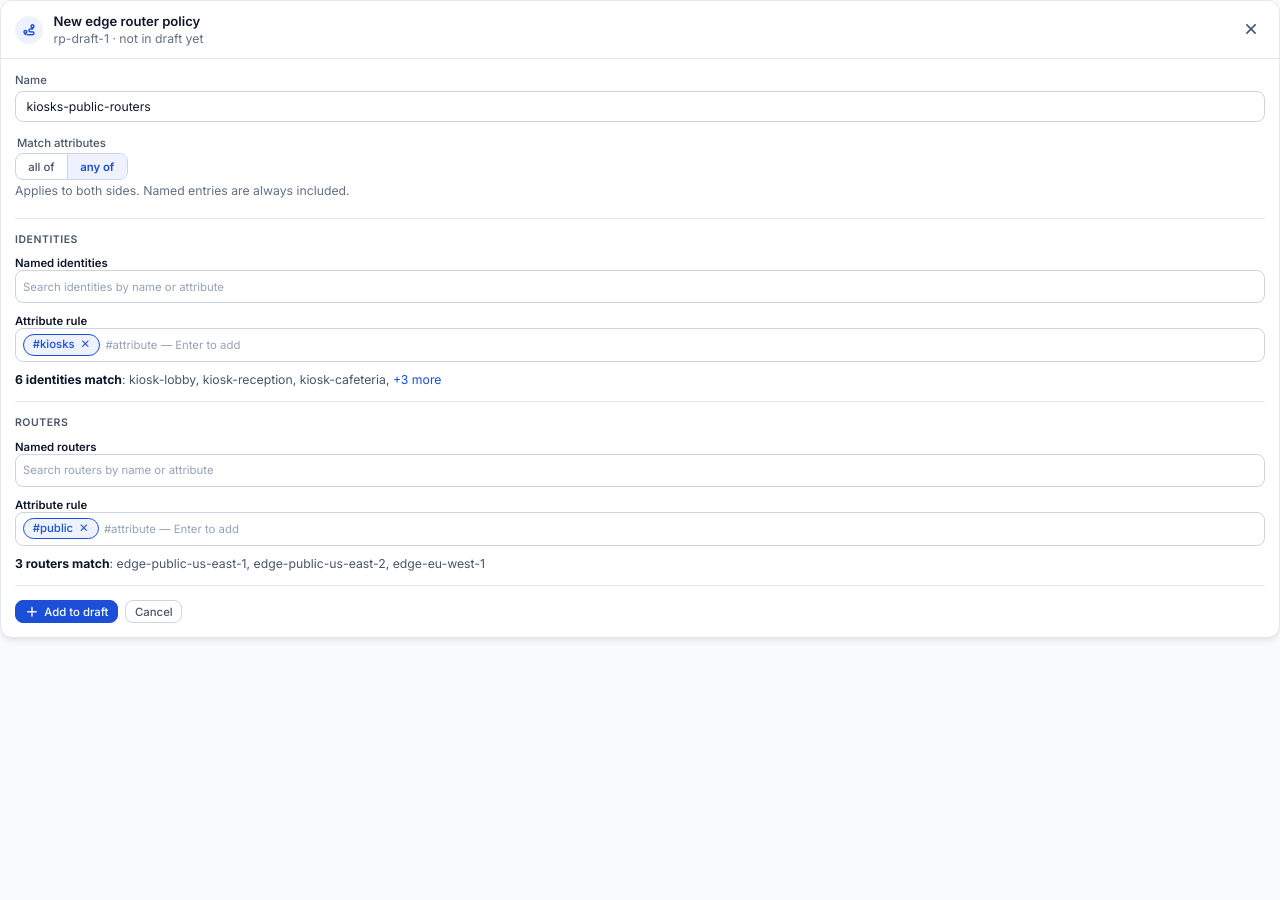
RouterPolicyEditorComponent › a new suggestion: its live counts, nothing in the draft until Add to draft
The image size is (1280, 900).
Expected: the heading "New edge router policy" is shown, left=54, top=13, right=200, bottom=29
Expected: the field with id "rpe-name" holds "kiosks-public-routers", left=15, top=91, right=1265, bottom=122
Step 1. Click the button "Add to draft" → (67, 612), box left=15, top=600, right=118, bottom=623
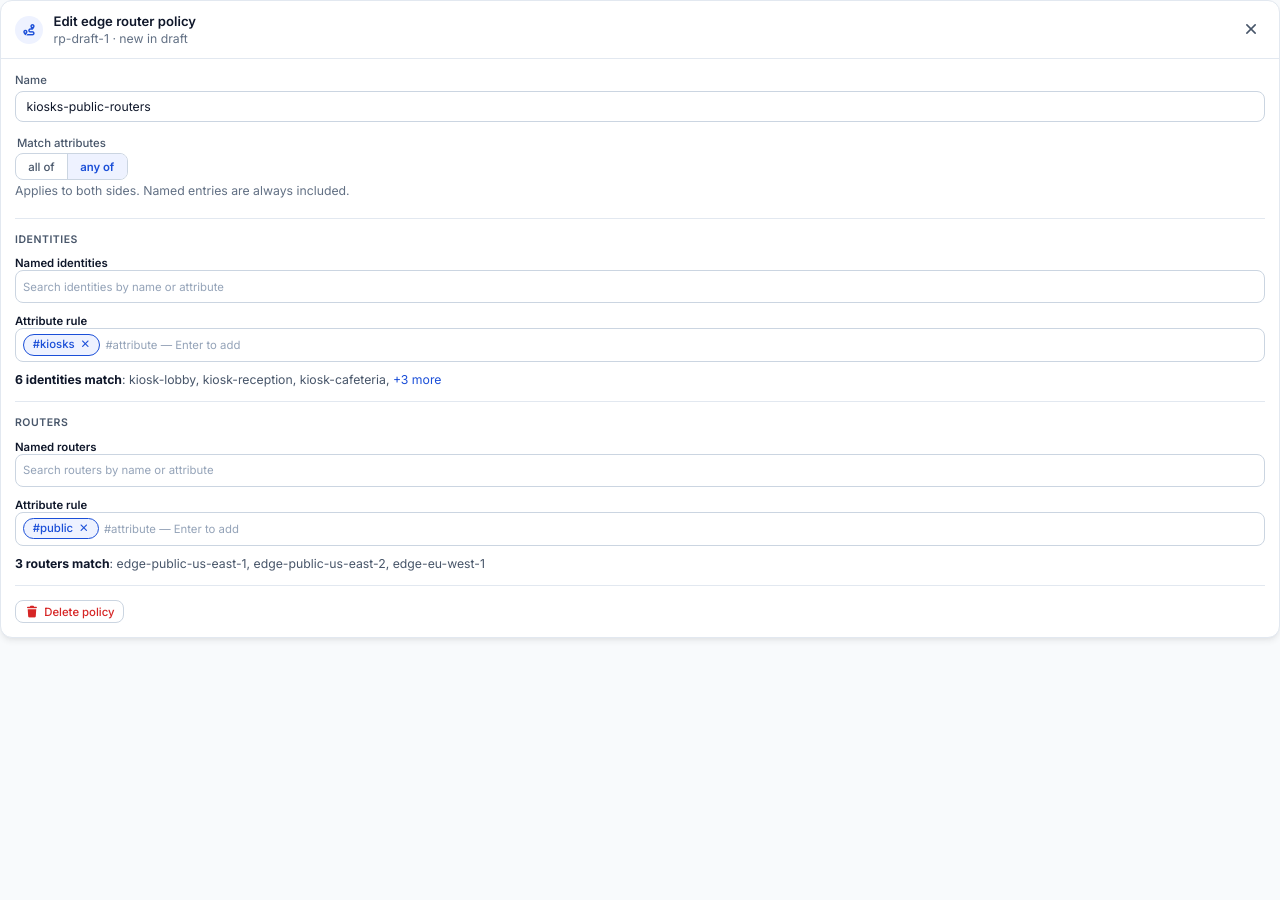
Now the heading "Edit edge router policy" is shown, box left=54, top=13, right=196, bottom=29
Now the text "Delete policy" is shown, box left=15, top=600, right=124, bottom=623
